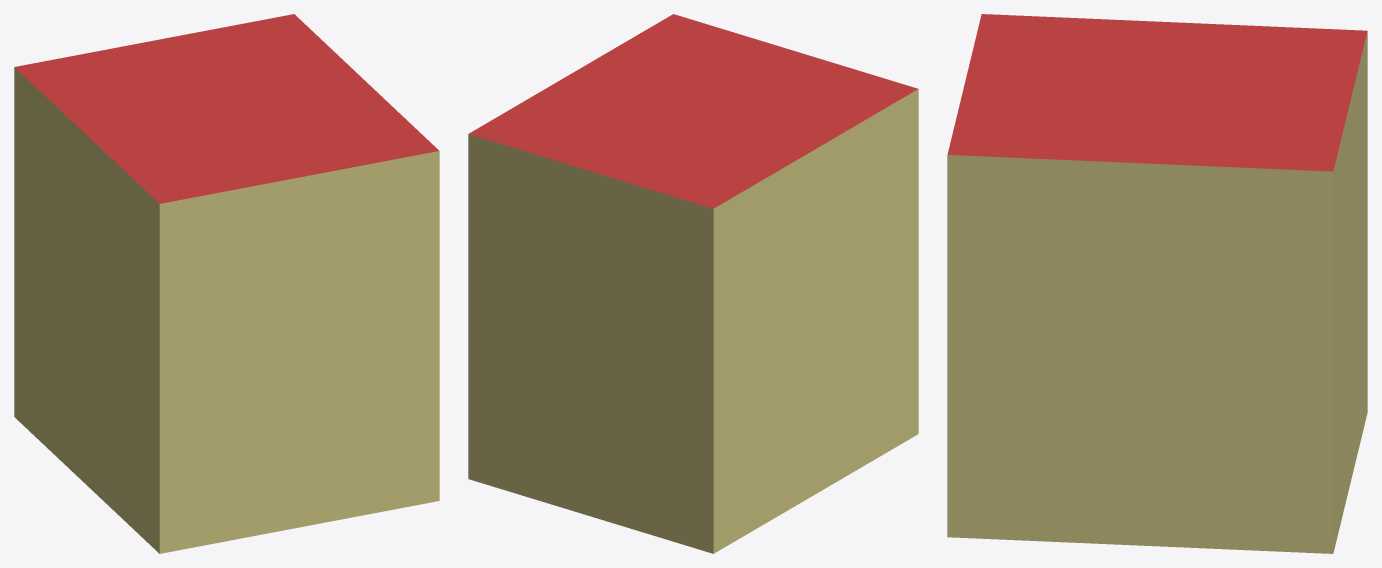
3 renders of one model, left to right at view 1: azimuth 30°, elevation 25°; view 2: azimuth 150°, elevation 25°; view 3: azimuth 270°, elevation 25°, orthographic. The views are drawn at different scales.
Size of the model in its own units: 7.11 by 8.01 by 8.04.
